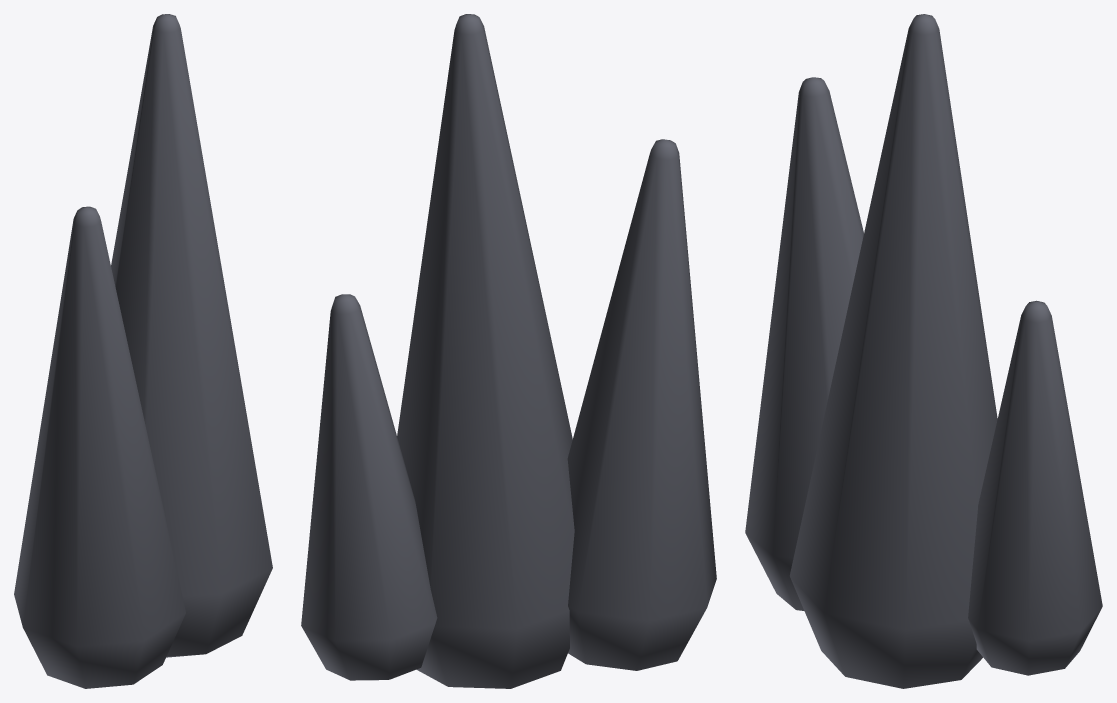
The model's file is prop_stalag6_47b3.glb.
3 views of the same model, side by side, from view 1: azimuth 30°, elevation 25°; view 2: azimuth 150°, elevation 25°; view 3: azimuth 270°, elevation 25° (orthographic). The views are drawn at different scales.
Parts seen in each view (by area): view 1: prop_stalag6_47b3; view 2: prop_stalag6_47b3; view 3: prop_stalag6_47b3.
Part boxes in pixels (x1=…): prop_stalag6_47b3: x1=14, y1=14, x2=272, y2=688; prop_stalag6_47b3: x1=301, y1=14, x2=716, y2=688; prop_stalag6_47b3: x1=745, y1=14, x2=1102, y2=688.
Size of the model in its own units: 0.5051 by 1.07 by 0.5166.
1 material, 1 textured.
